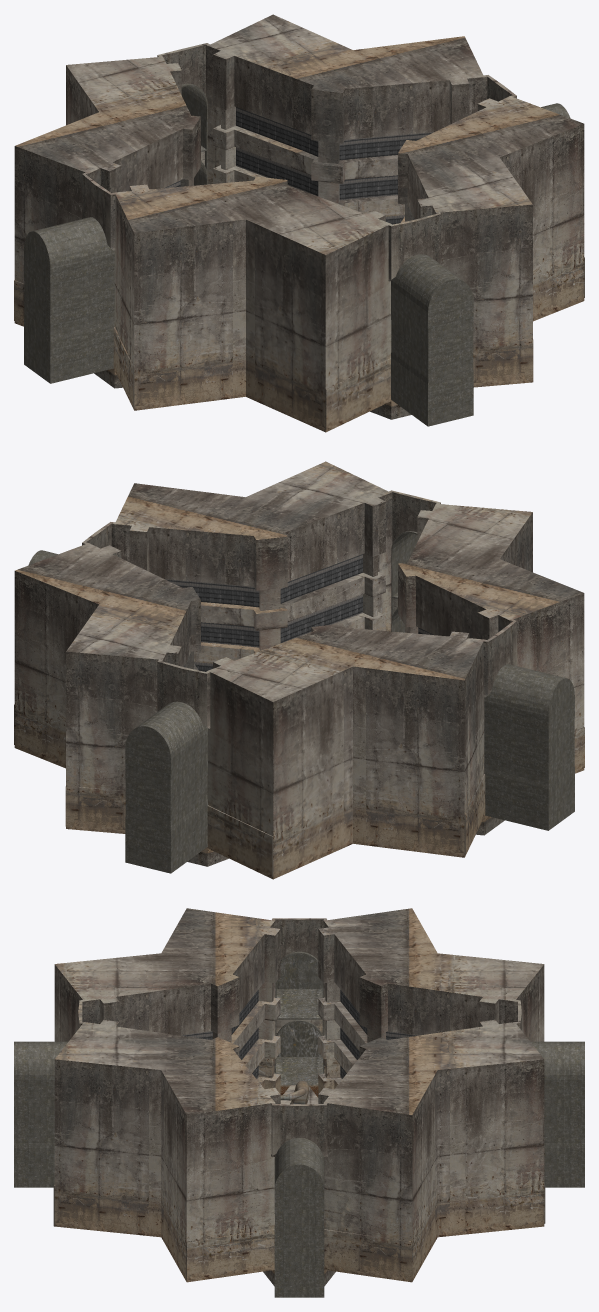
File: Statue.fbx
The picture shows the model from 3 angles, top to bottom: view 1: azimuth 30°, elevation 25°; view 2: azimuth 150°, elevation 25°; view 3: azimuth 270°, elevation 25°; orthographic projection. The views are drawn at different scales.
Parts seen in each view (by area): view 1: Cone; view 2: Cone; view 3: Cone.
Boxes of the visible parts, x1,y1,x2,y2 form: Cone: [14, 14, 584, 432]; Cone: [14, 461, 584, 879]; Cone: [14, 908, 584, 1297].
Bounding box in the file's own units: 117 × 41.96 × 117.
